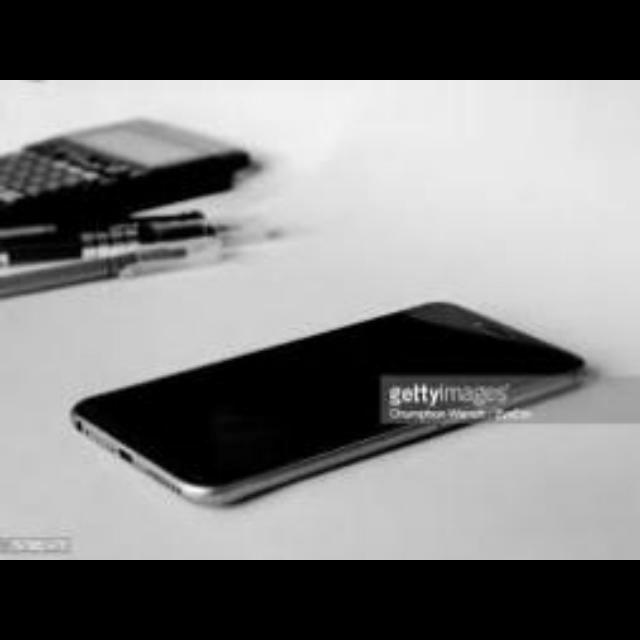fake: (70, 286, 604, 510)
